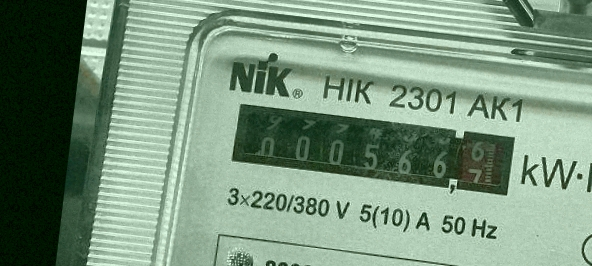0: (325, 136, 347, 167), (292, 131, 312, 162), (256, 132, 278, 157)
5: (360, 140, 381, 171)
6: (429, 147, 451, 180), (393, 145, 415, 175), (469, 138, 487, 165)
7: (465, 166, 483, 186)
9: (263, 110, 283, 132)
screen: (221, 94, 521, 204)
